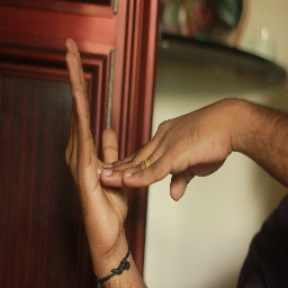Z: (53, 35, 232, 247)
